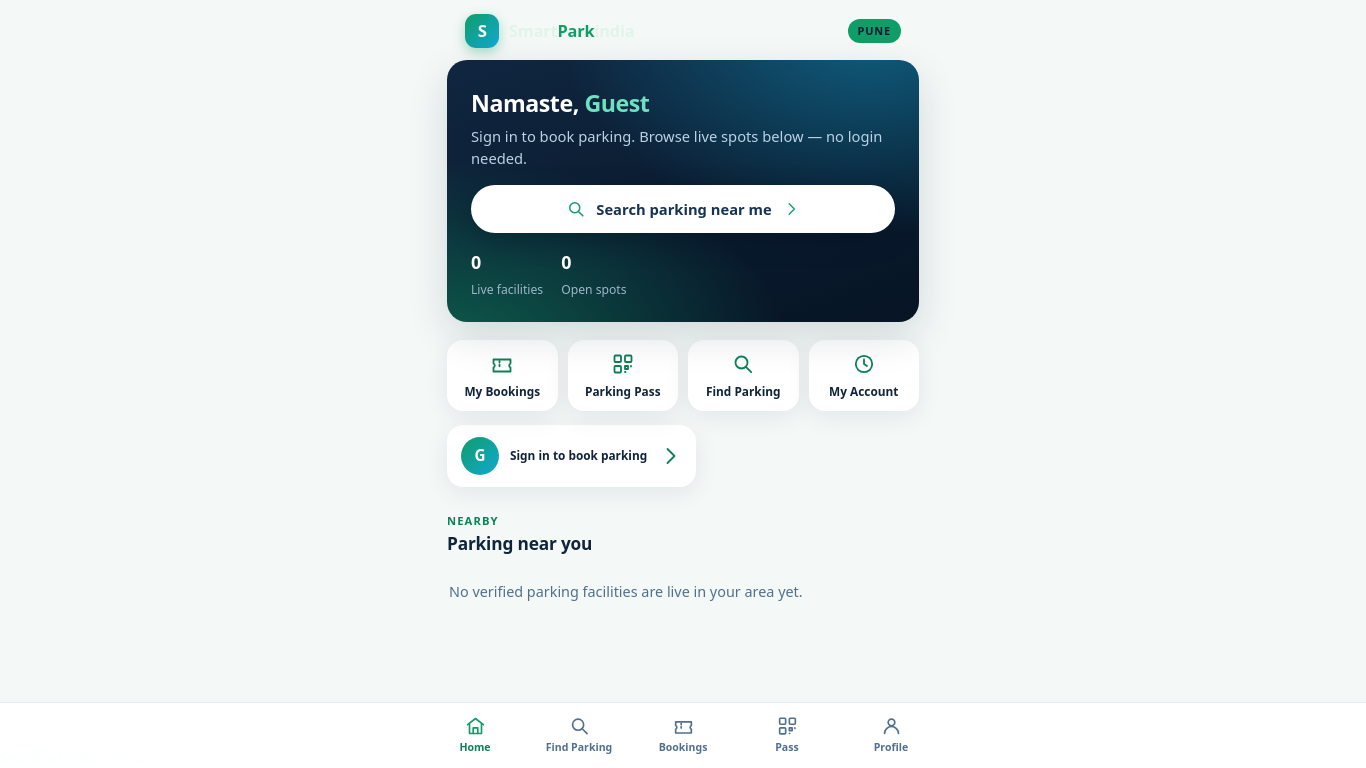
Test: frontend authentication foundation › starts unauthenticated, keeps browsing available, and offers sign-in
Click the button with class "nav-item" showing "Profile" at (891, 736), box [839, 703, 943, 767]
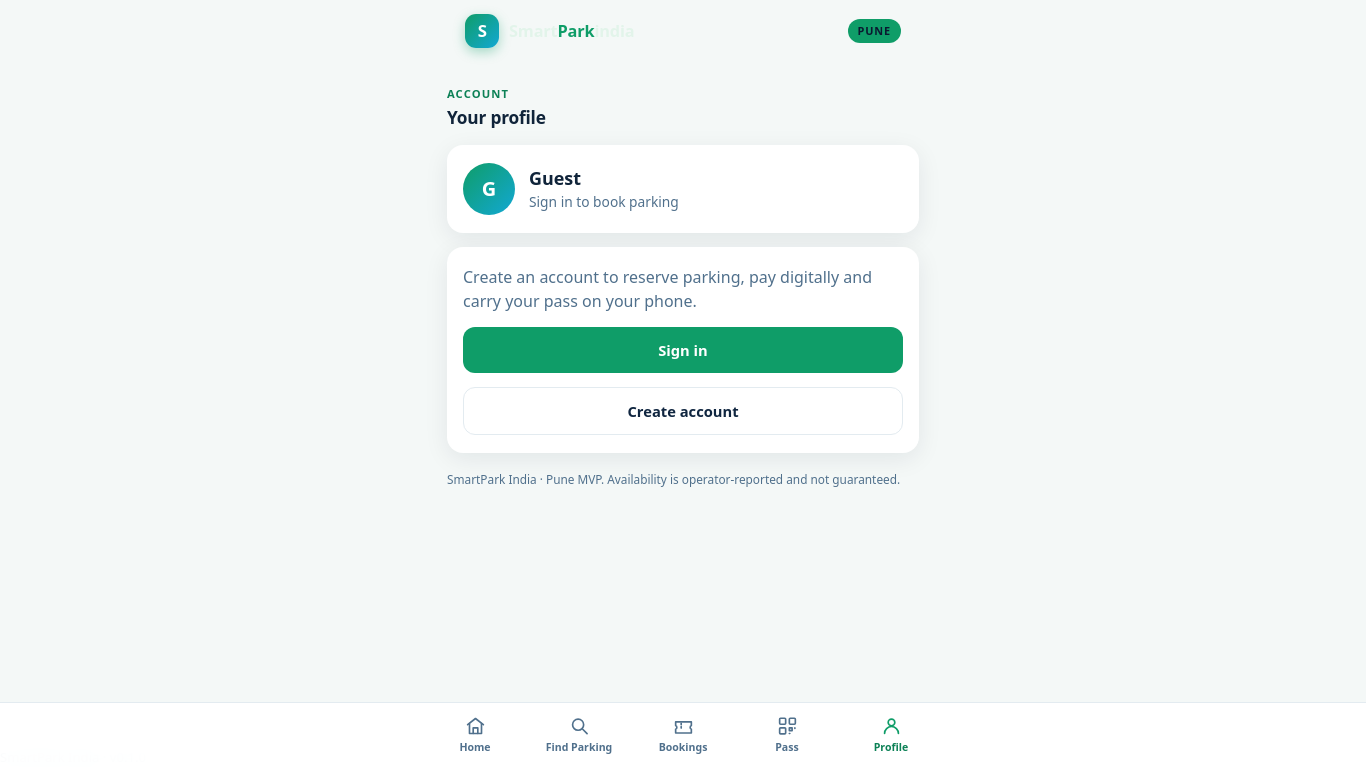
Expected: the text "Sign in" is shown, [529, 192, 679, 211]
Result: the text "Create account" is shown at [463, 387, 903, 435]
